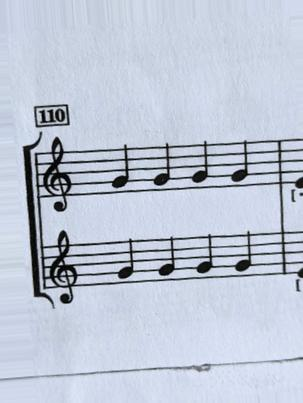note: (106, 234, 144, 285), (185, 137, 216, 193), (105, 142, 138, 194), (222, 138, 254, 185), (187, 233, 219, 279), (149, 140, 178, 190), (231, 229, 261, 277), (152, 234, 181, 280)
